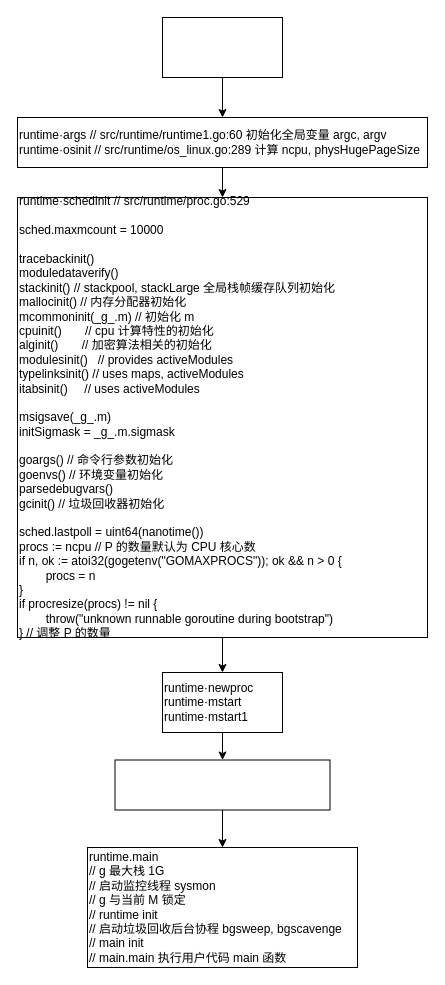
This 445x985 diagram has some shape labels left out. The shapes that lost their labels are listed below. From the top down, each one's box as (x1, y1, x2, y2) in pixels, then its label:
(162, 16, 282, 78): _rt0_amd64_linux _rt0_amd64 runtime·rt0_go
(114, 759, 330, 810): schedule() // 调度循环，寻找可运行的 g 然后运行
